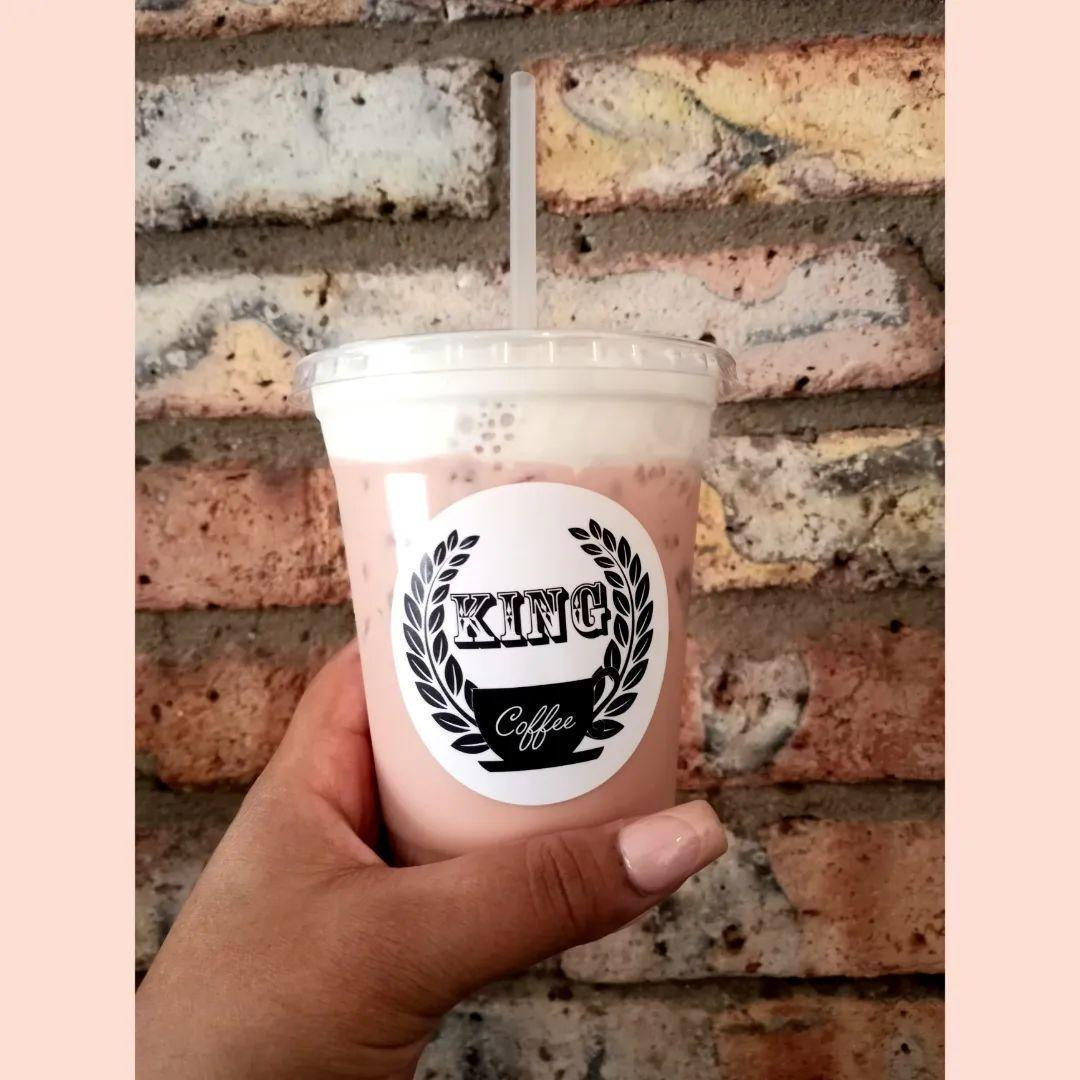cup-disposable: (291, 318, 737, 873)
